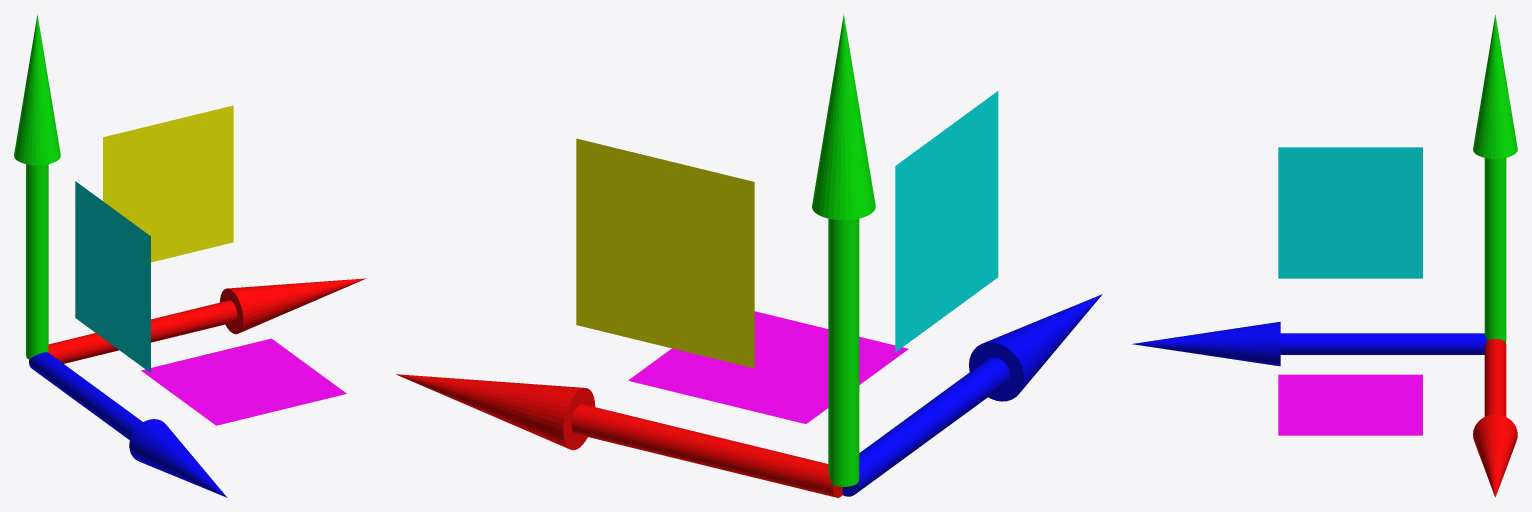
Rendered from gizmo_pos.glb.
3 renders of one model, left to right at view 1: azimuth 30°, elevation 25°; view 2: azimuth 150°, elevation 25°; view 3: azimuth 270°, elevation 25°, orthographic. The views are drawn at different scales.
Visible parts, largest first — view 1: xy plane, yz plane, xz plane, y pos, x pos, z pos; view 2: xy plane, yz plane, y pos, x pos, xz plane, z pos; view 3: yz plane, xz plane, z pos, y pos, x pos.
Part boxes in pixels (x1=…): xy plane: x1=103, y1=105, x2=233, y2=262; yz plane: x1=75, y1=181, x2=150, y2=372; xz plane: x1=141, y1=338, x2=346, y2=425; y pos: x1=14, y1=14, x2=60, y2=359; x pos: x1=48, y1=278, x2=366, y2=363; z pos: x1=29, y1=352, x2=227, y2=497; xy plane: x1=576, y1=138, x2=754, y2=368; yz plane: x1=895, y1=91, x2=998, y2=352; y pos: x1=812, y1=14, x2=875, y2=486; x pos: x1=396, y1=374, x2=842, y2=497; xz plane: x1=628, y1=311, x2=908, y2=423; z pos: x1=842, y1=294, x2=1102, y2=496; yz plane: x1=1278, y1=147, x2=1422, y2=278; xz plane: x1=1278, y1=374, x2=1422, y2=435; z pos: x1=1132, y1=321, x2=1487, y2=366; y pos: x1=1473, y1=15, x2=1517, y2=342; x pos: x1=1473, y1=339, x2=1517, y2=497.
Size of the model in its own units: 1.07 by 1.07 by 1.07.
